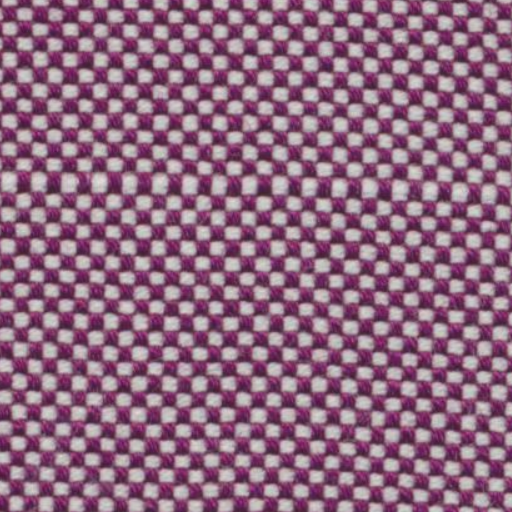TuoSha: (2, 147, 498, 220)
